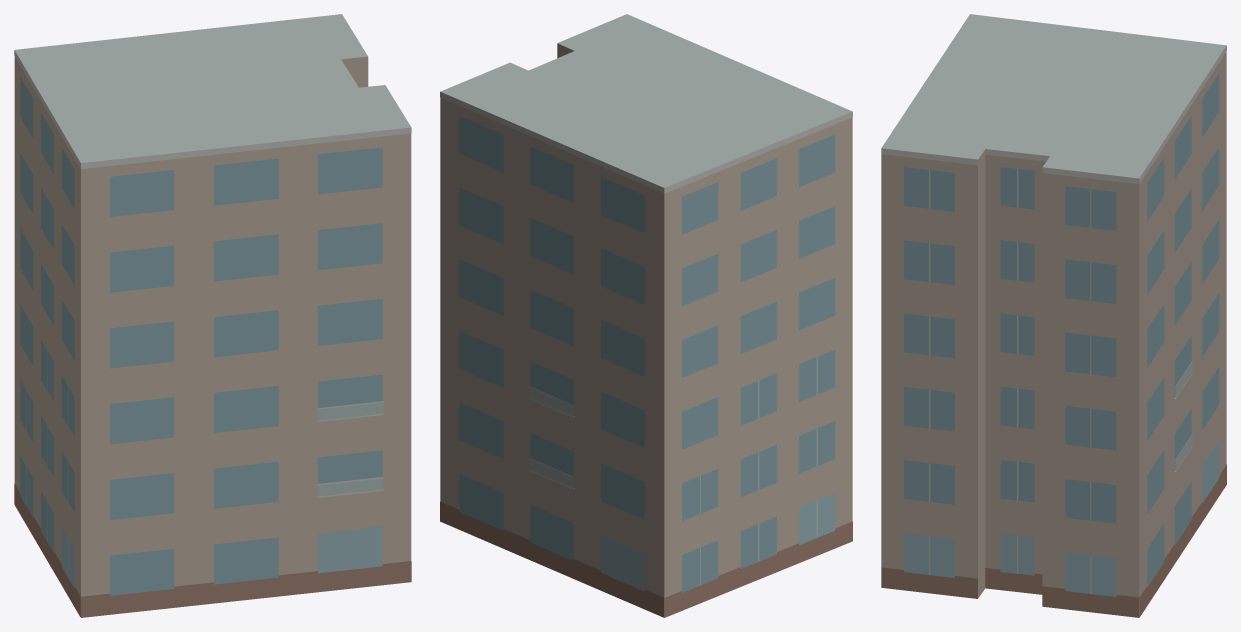
The model's file is survey-upis-32633892.glb.
The picture shows the model from 3 angles, left to right: view 1: azimuth 30°, elevation 25°; view 2: azimuth 150°, elevation 25°; view 3: azimuth 270°, elevation 25°; orthographic projection. The views are drawn at different scales.
Parts seen in each view (by area): view 1: survey-upis-32633892.tmp; view 2: survey-upis-32633892.tmp; view 3: survey-upis-32633892.tmp.
Boxes of the visible parts, bbox=[...] form: survey-upis-32633892.tmp: bbox=[14, 14, 411, 617]; survey-upis-32633892.tmp: bbox=[440, 14, 852, 617]; survey-upis-32633892.tmp: bbox=[881, 14, 1226, 617].
Size of the model in its own units: 14.88 by 18.53 by 13.21.
